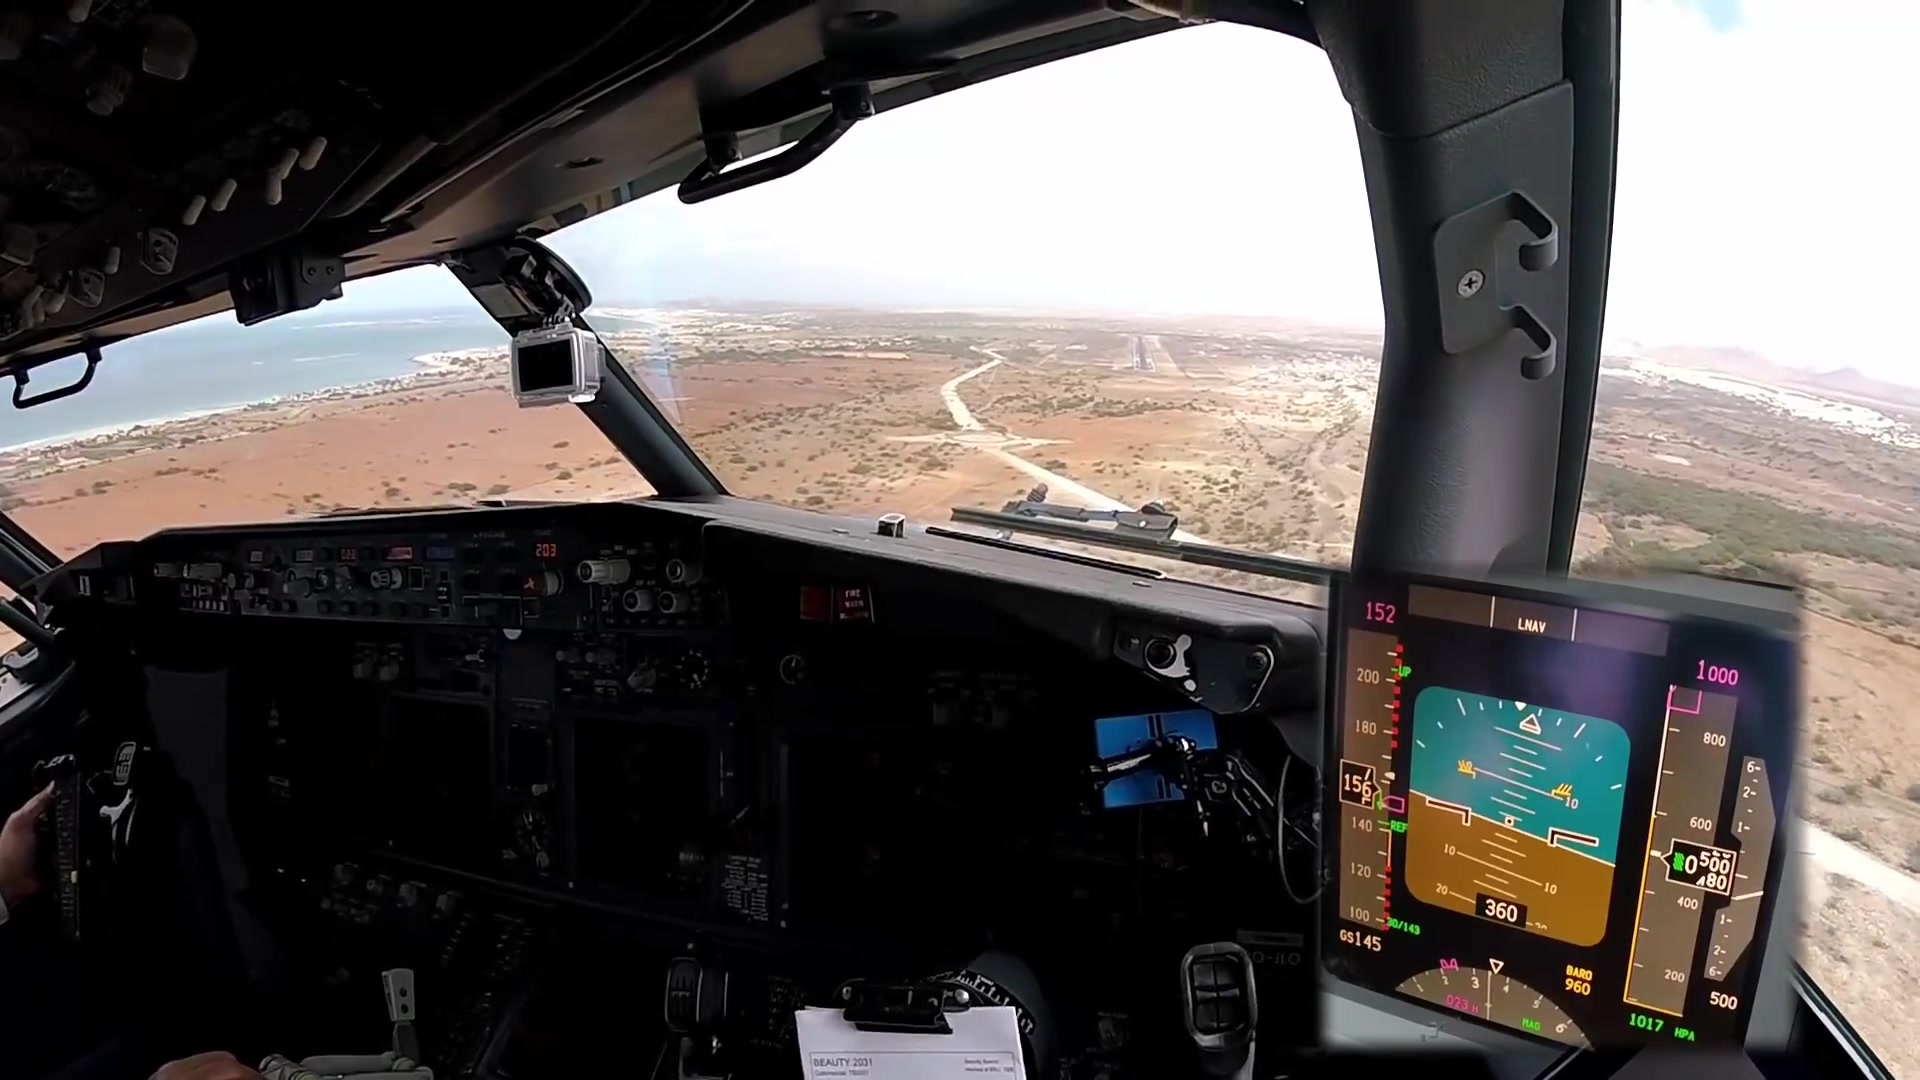runway: (1130, 334, 1158, 375)
